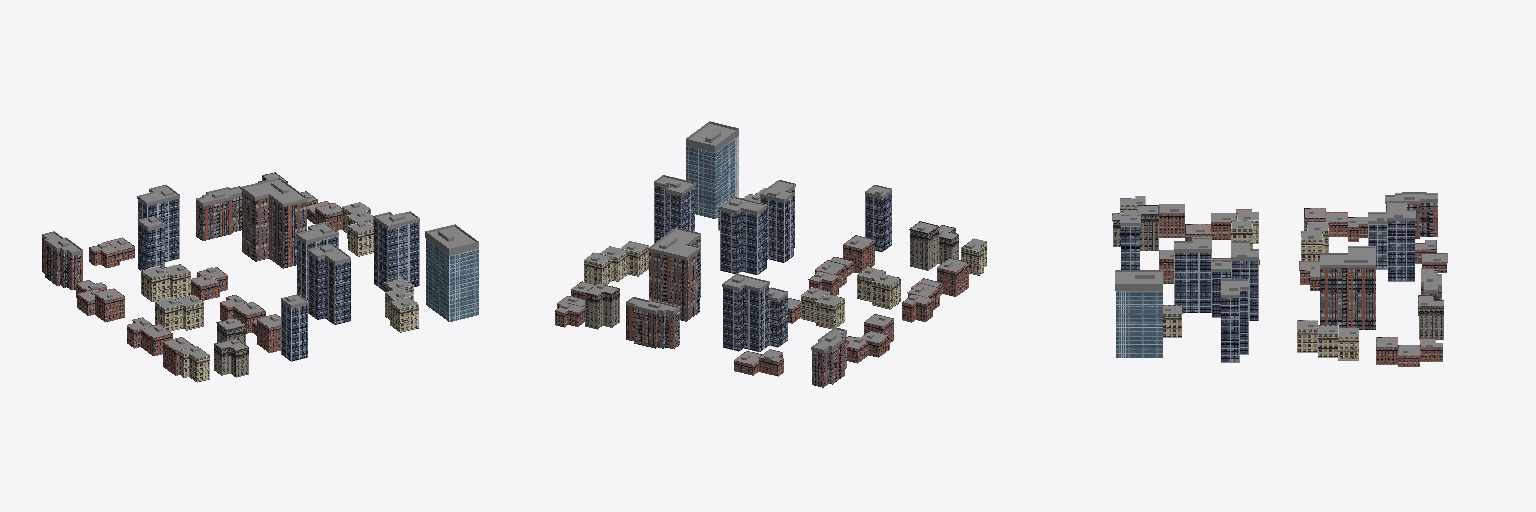
The picture shows the model from 3 angles: view 1: azimuth 30°, elevation 25°; view 2: azimuth 150°, elevation 25°; view 3: azimuth 270°, elevation 25°; orthographic projection.
Visible parts, largest first — view 1: Building_271_2, building_of_type_6_2, Building_013_2, Building_272_2, Building_308_2, Building_295_2, Building_263_2, Building_296_2, Building_287_2, Building_274_2, Building_304_2, Building_271_4 (+4 smaller); view 2: building_of_type_6_2, Building_274_2, Building_271_2, Building_295_2, Building_013_2, Building_272_2, Building_263_2, Building_308_2, Building_287_2, Building_264_2, Building_296_2, Building_305_2 (+5 smaller); view 3: Building_271_2, building_of_type_6_2, Building_272_2, Building_013_2, Building_295_2, Building_274_2, Building_308_2, Building_296_2, Building_271_4, Building_287_2, Building_264_2, Building_302_2 (+1 smaller).
Boxes of the visible parts, box(x1,y1,x2,y2) form: Building_271_2: box(242, 191, 306, 268); building_of_type_6_2: box(426, 239, 478, 321); Building_013_2: box(374, 220, 419, 291); Building_272_2: box(308, 253, 350, 324); Building_308_2: box(281, 302, 307, 361); Building_295_2: box(138, 198, 179, 261); Building_263_2: box(196, 204, 241, 240); Building_296_2: box(138, 224, 164, 270); Building_287_2: box(42, 246, 82, 289); Building_274_2: box(297, 236, 338, 299); Building_304_2: box(214, 353, 248, 377); Building_271_4: box(244, 180, 303, 203); building_of_type_6_2: box(686, 136, 738, 218); Building_274_2: box(720, 209, 766, 274); Building_271_2: box(649, 237, 700, 321); Building_295_2: box(723, 286, 768, 351); Building_013_2: box(654, 185, 694, 242); Building_272_2: box(760, 188, 794, 262); Building_263_2: box(626, 314, 679, 348); Building_308_2: box(865, 193, 891, 251); Building_287_2: box(812, 342, 846, 387); Building_264_2: box(585, 298, 619, 329); Building_296_2: box(769, 296, 787, 347); Building_305_2: box(910, 236, 938, 270); Building_271_2: box(1320, 268, 1375, 329); building_of_type_6_2: box(1116, 291, 1162, 357); Building_272_2: box(1174, 253, 1211, 312); Building_013_2: box(1221, 290, 1248, 362); Building_295_2: box(1388, 221, 1414, 281); Building_274_2: box(1231, 261, 1258, 320); Building_308_2: box(1121, 226, 1139, 269); Building_296_2: box(1368, 224, 1387, 269); Building_271_4: box(1320, 248, 1374, 264); Building_287_2: box(1415, 211, 1437, 238); Building_264_2: box(1419, 316, 1443, 339); Building_302_2: box(1159, 217, 1184, 237).
Size of the model in its own units: 873 by 240 by 876.
13 materials, 10 textured.